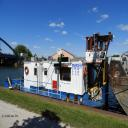tugboat: (4, 31, 116, 111)
